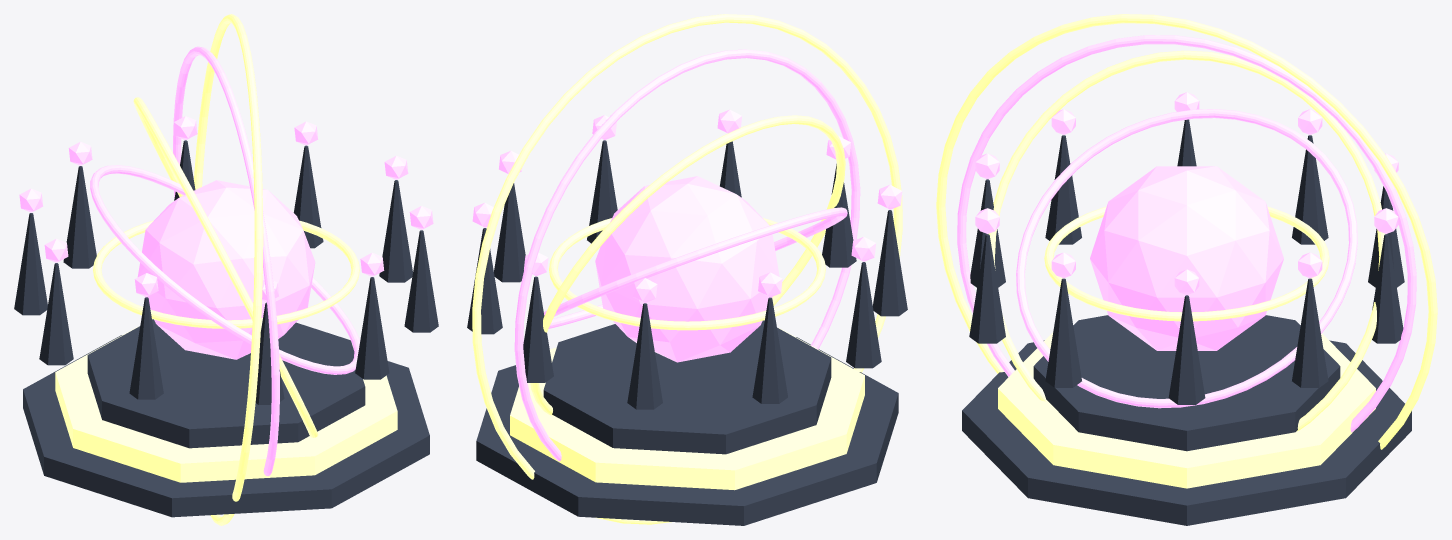
The model's file is gpu-blender-v55.glb.
3 renders of one model, left to right at view 1: azimuth 30°, elevation 25°; view 2: azimuth 150°, elevation 25°; view 3: azimuth 270°, elevation 25°, orthographic. The views are drawn at different scales.
Parts seen in each view (by area): view 1: Cylinder.002, Cylinder, SovereignCore_zela-glasses-guide, Cylinder.001, Torus.004, Torus.003, Torus.001, Torus, Torus.002, Cone.004, Cone.008, Cone.005 (+6 smaller); view 2: Cylinder.002, SovereignCore_zela-glasses-guide, Cylinder, Cylinder.001, Torus.004, Torus.003, Torus.002, Torus, Torus.001, Cone.005, Cone.003, Cone.006 (+7 smaller); view 3: SovereignCore_zela-glasses-guide, Cylinder.002, Cylinder, Cylinder.001, Torus.004, Torus.003, Torus.001, Torus.002, Torus, Cone, Cone.008, Cone.001 (+7 smaller).
Part boxes in pixels (left/top/right/bottom): Cylinder.002: left=87, top=319, right=365, bottom=448; Cylinder: left=23, top=335, right=429, bottom=517; SovereignCore_zela-glasses-guide: left=137, top=180, right=315, bottom=359; Cylinder.001: left=55, top=326, right=397, bottom=482; Torus.004: left=194, top=14, right=263, bottom=525; Torus.003: left=173, top=46, right=279, bottom=475; Torus.001: left=90, top=165, right=360, bottom=374; Torus: left=93, top=220, right=359, bottom=328; Torus.002: left=133, top=97, right=318, bottom=437; Cone.004: left=14, top=213, right=47, bottom=315; Cone.008: left=355, top=277, right=389, bottom=379; Cone.005: left=39, top=263, right=73, bottom=365; Cylinder.002: left=543, top=320, right=831, bottom=454; SovereignCore_zela-glasses-guide: left=595, top=176, right=779, bottom=362; Cylinder: left=476, top=337, right=898, bottom=525; Cylinder.001: left=510, top=328, right=864, bottom=490; Torus.004: left=472, top=14, right=902, bottom=524; Torus.003: left=514, top=49, right=860, bottom=461; Torus.002: left=530, top=115, right=845, bottom=415; Torus: left=549, top=218, right=825, bottom=330; Torus.001: left=544, top=207, right=847, bottom=328; Cone.005: left=846, top=262, right=881, bottom=368; Cone.003: left=627, top=303, right=662, bottom=409; Cone.006: left=873, top=210, right=907, bottom=316; SovereignCore_zela-glasses-guide: left=1090, top=166, right=1283, bottom=350; Cylinder.002: left=1033, top=315, right=1340, bottom=451; Cylinder: left=962, top=340, right=1411, bottom=525; Cylinder.001: left=998, top=332, right=1375, bottom=488; Torus.004: left=936, top=14, right=1437, bottom=449; Torus.003: left=957, top=35, right=1416, bottom=432; Torus.001: left=1016, top=109, right=1357, bottom=408; Torus.002: left=988, top=50, right=1385, bottom=431; Torus: left=1044, top=206, right=1329, bottom=321; Cone: left=1168, top=295, right=1205, bottom=404; Cone.008: left=969, top=234, right=1005, bottom=343; Cone.001: left=1292, top=278, right=1328, bottom=387.
Bounding box in the file's own units: 4.41 × 5.33 × 4.9.
